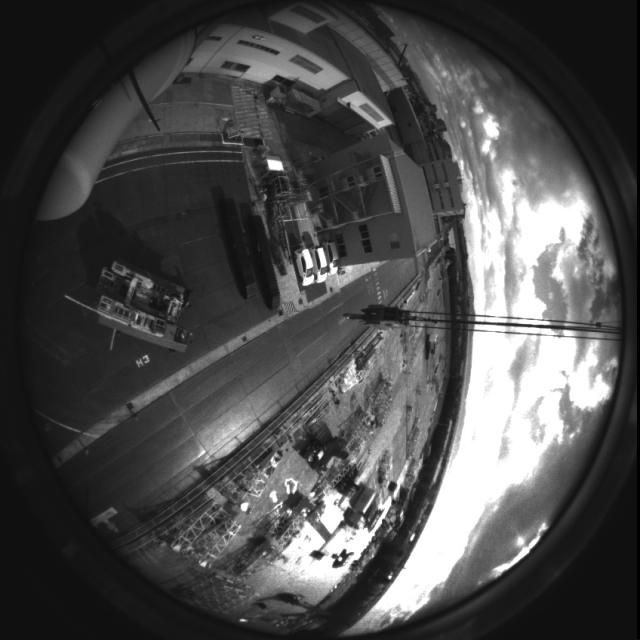rope: (328, 301, 637, 347)
